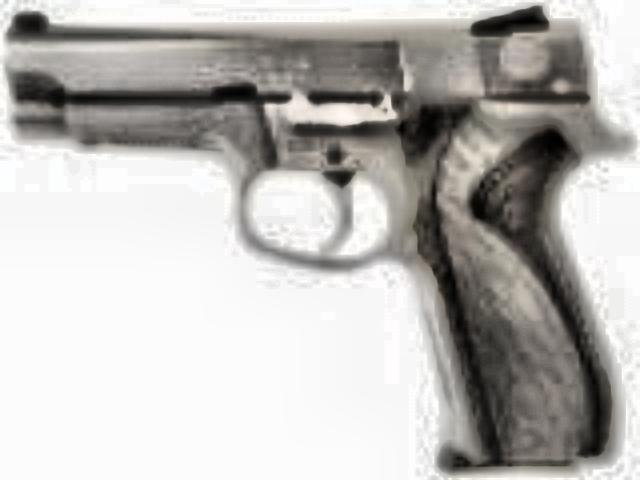pistol: (12, 4, 612, 472)
